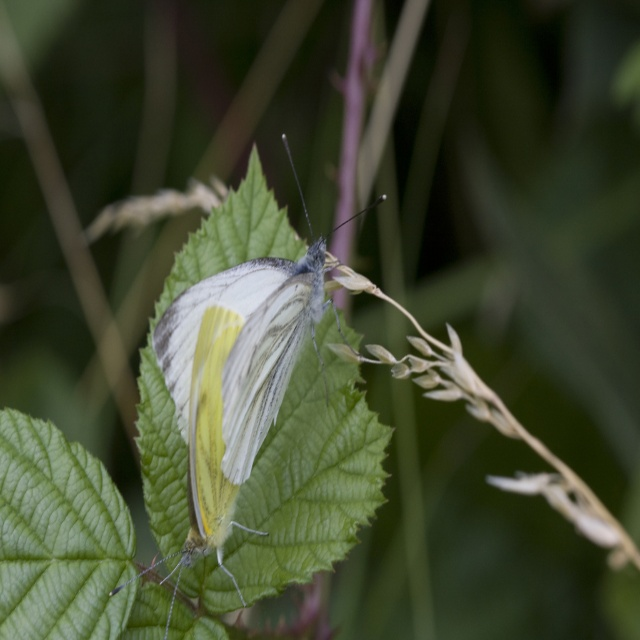Butterfly: (152, 134, 387, 486), (109, 300, 268, 640)
